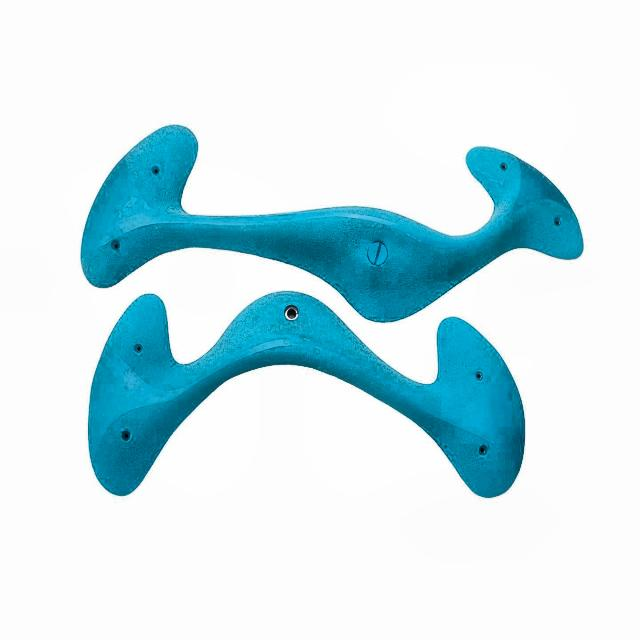Hold: (75, 295, 556, 511), (70, 123, 584, 321)
